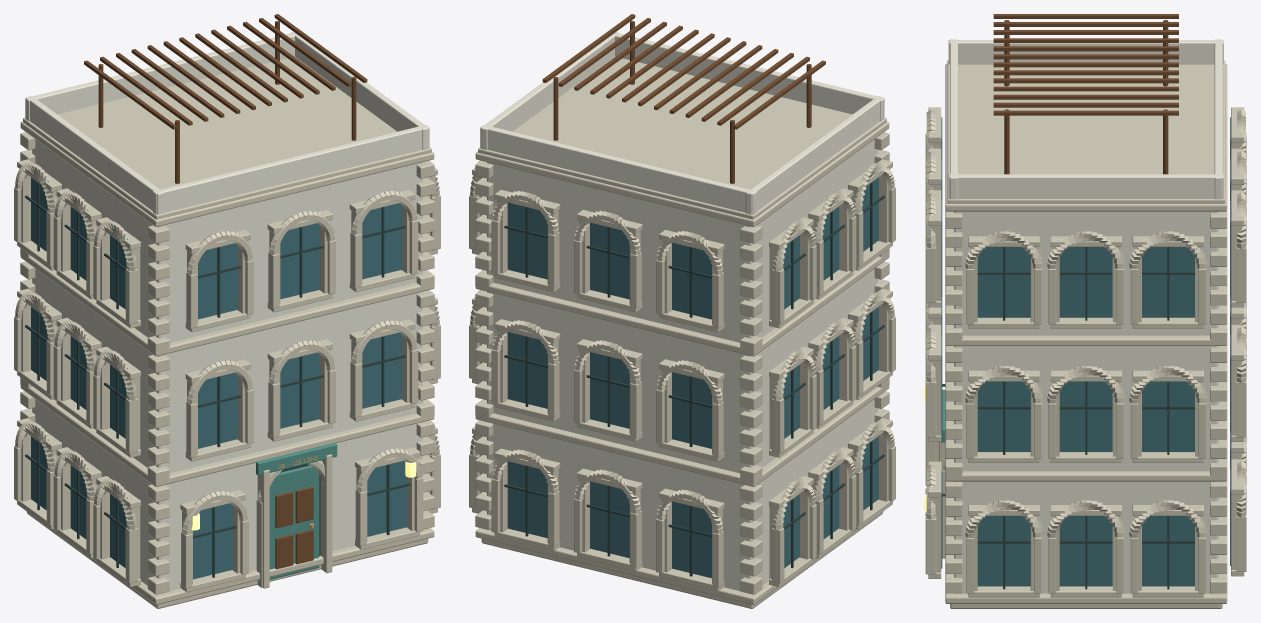
The model's file is algerie-3.glb.
The picture shows the model from 3 angles, left to right: view 1: azimuth 30°, elevation 25°; view 2: azimuth 150°, elevation 25°; view 3: azimuth 270°, elevation 25°; orthographic projection. The views are drawn at different scales.
Parts seen in each view (by area): view 1: algerie-3_Dressed stone.003, algerie-3_Masonry plaster.003, algerie-3_Window blue, algerie-3_Walnut, algerie-3_Forged midnight, algerie-3_Regional painted wood.003; view 2: algerie-3_Dressed stone.003, algerie-3_Masonry plaster.003, algerie-3_Window blue, algerie-3_Walnut, algerie-3_Forged midnight; view 3: algerie-3_Dressed stone.003, algerie-3_Masonry plaster.003, algerie-3_Window blue, algerie-3_Walnut, algerie-3_Forged midnight.
Boxes of the visible parts, x1,y1,x2,y2 form: algerie-3_Dressed stone.003: (14, 56, 440, 608); algerie-3_Masonry plaster.003: (25, 32, 429, 590); algerie-3_Window blue: (31, 177, 407, 579); algerie-3_Walnut: (84, 14, 367, 569); algerie-3_Forged midnight: (25, 182, 410, 577); algerie-3_Regional painted wood.003: (256, 443, 337, 579); algerie-3_Dressed stone.003: (469, 56, 895, 608); algerie-3_Masonry plaster.003: (480, 32, 884, 590); algerie-3_Window blue: (507, 177, 878, 577); algerie-3_Walnut: (542, 14, 825, 183); algerie-3_Forged midnight: (504, 182, 884, 576); algerie-3_Dressed stone.003: (925, 60, 1246, 608); algerie-3_Masonry plaster.003: (948, 39, 1223, 593); algerie-3_Window blue: (941, 117, 1230, 586); algerie-3_Walnut: (993, 14, 1178, 174); algerie-3_Forged midnight: (942, 247, 1194, 589).
Size of the model in its own units: 14.12 by 19.87 by 12.18.
